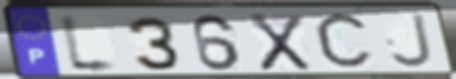3: (124, 15, 182, 72)
6: (191, 12, 243, 73)
C: (311, 9, 377, 74)
J: (388, 12, 437, 70)
L: (56, 11, 124, 76)
X: (246, 12, 313, 73)
